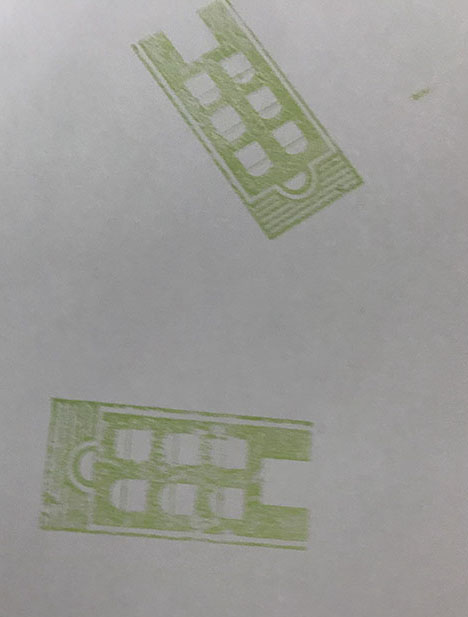build: (111, 3, 375, 244), (18, 373, 328, 571)
